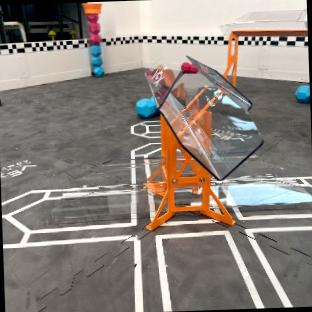V5_BLUE: (91, 45, 104, 75), (136, 98, 156, 117), (295, 84, 310, 102)
